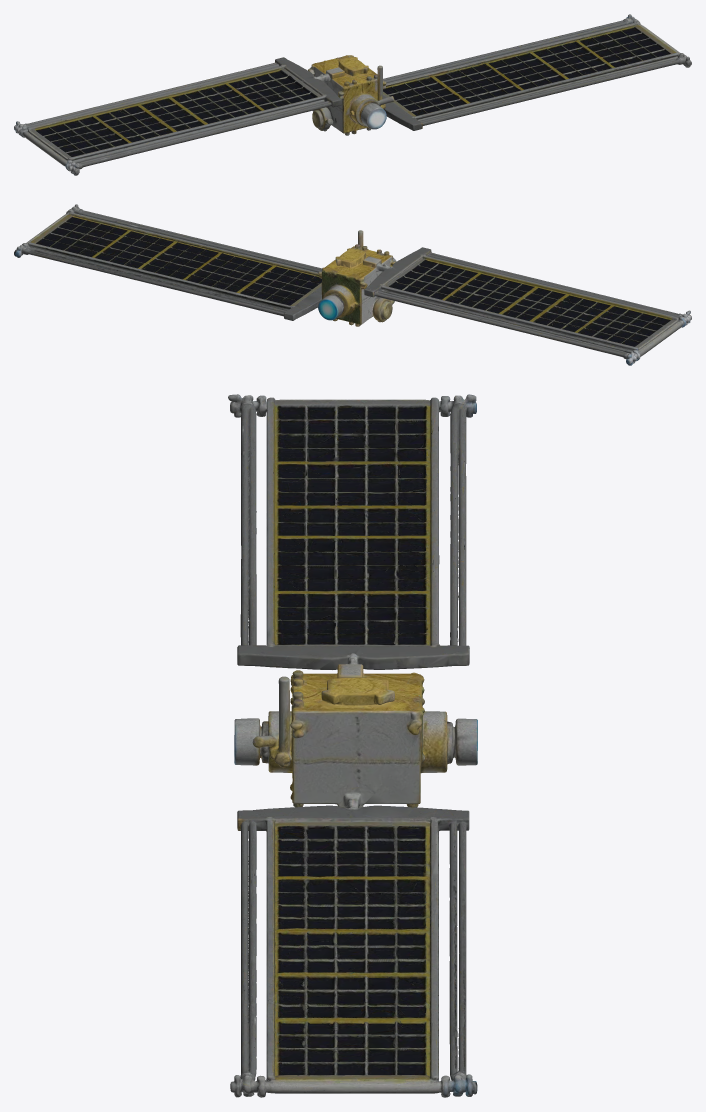
File: dart.glb
The picture shows the model from 3 angles, top to bottom: view 1: azimuth 30°, elevation 25°; view 2: azimuth 150°, elevation 25°; view 3: azimuth 270°, elevation 25°; orthographic projection. The views are drawn at different scales.
Bounding box in the file's own units: 1.9 × 0.2008 × 0.3325.
1 material, 1 textured.
